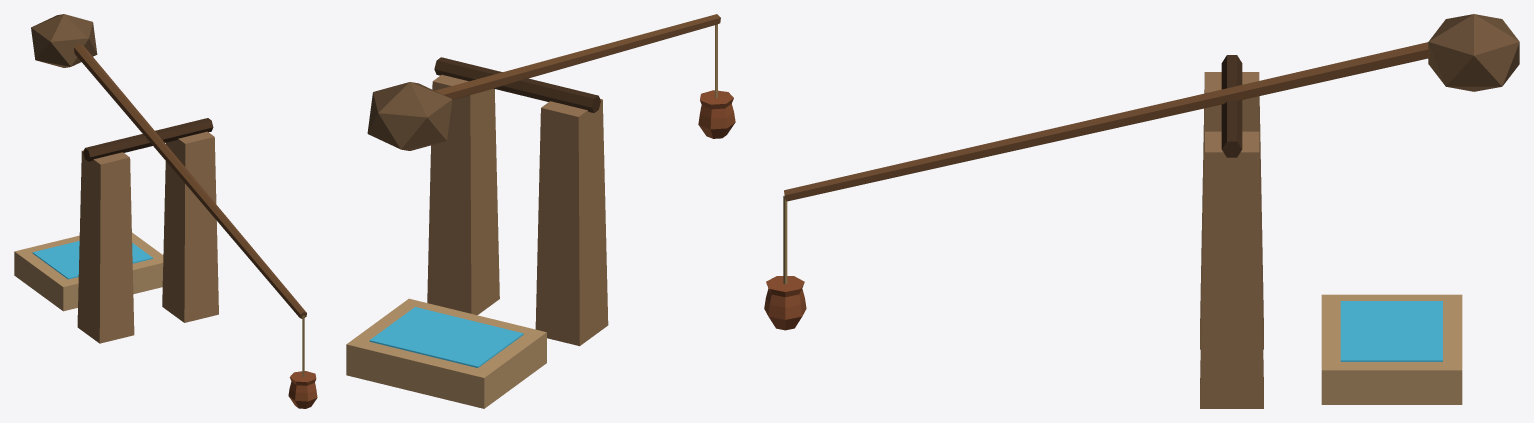
File: desert_shaduf.glb
3 views of the same model, side by side, from view 1: azimuth 30°, elevation 25°; view 2: azimuth 150°, elevation 25°; view 3: azimuth 270°, elevation 25° (orthographic). The views are drawn at different scales.
Visible parts, largest first — view 1: desert_shaduf; view 2: desert_shaduf; view 3: desert_shaduf.
Boxes of the visible parts, x1,y1,x2,y2 form: desert_shaduf: (14,14,317,408); desert_shaduf: (346,14,735,408); desert_shaduf: (764,14,1519,408).
Bounding box in the file's own units: 1.6 × 3.05 × 5.91.
